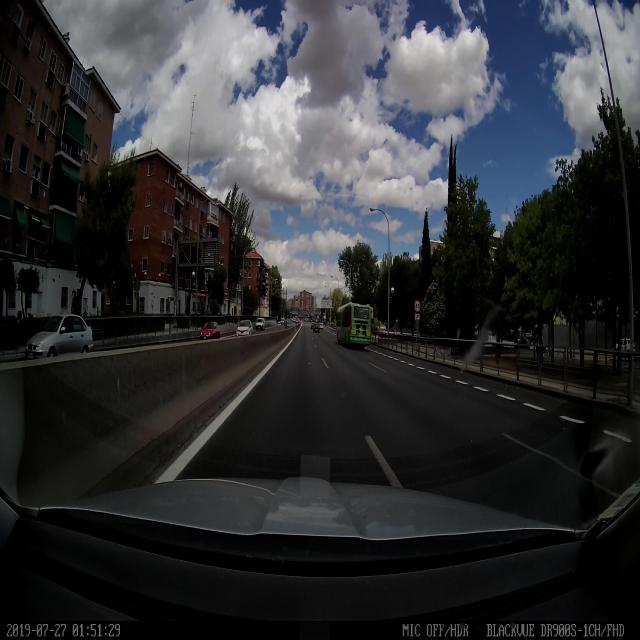car: (15, 315, 94, 361), (200, 321, 222, 340), (236, 319, 253, 336), (254, 318, 265, 331), (312, 321, 320, 334)
